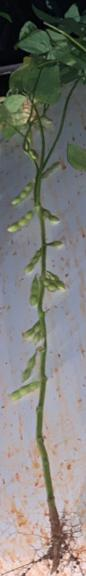soja: (6, 204, 40, 238), (6, 181, 44, 207), (5, 382, 46, 403), (38, 197, 61, 229), (22, 245, 44, 275), (17, 354, 41, 381), (48, 269, 71, 291), (26, 275, 41, 306), (22, 318, 42, 339), (42, 279, 60, 300), (44, 235, 63, 254), (32, 331, 50, 349)
